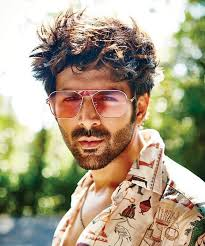b.y: (72, 127, 110, 170)
